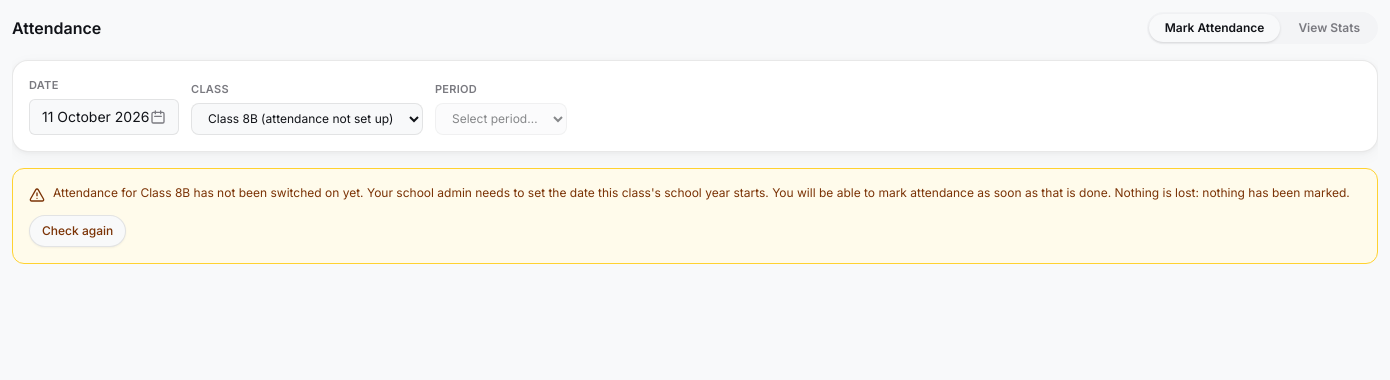
Scenario: TeacherAttendancePanel: a class with no school year start date › C6a: 'Check again' re-reads the class list once with fresh:true; a newly set date removes the card and shows 'Counted from'
This screenshot has width=1390, height=380.
Expected: the message shows "Attendance for Class 8B has not been switched on yet. Your school admin needs to set the date this class's school year starts. You will be able to mark attendan", [53,185,1350,200]
Click the button "Check again" at (78, 231), box [29,215,126,247]
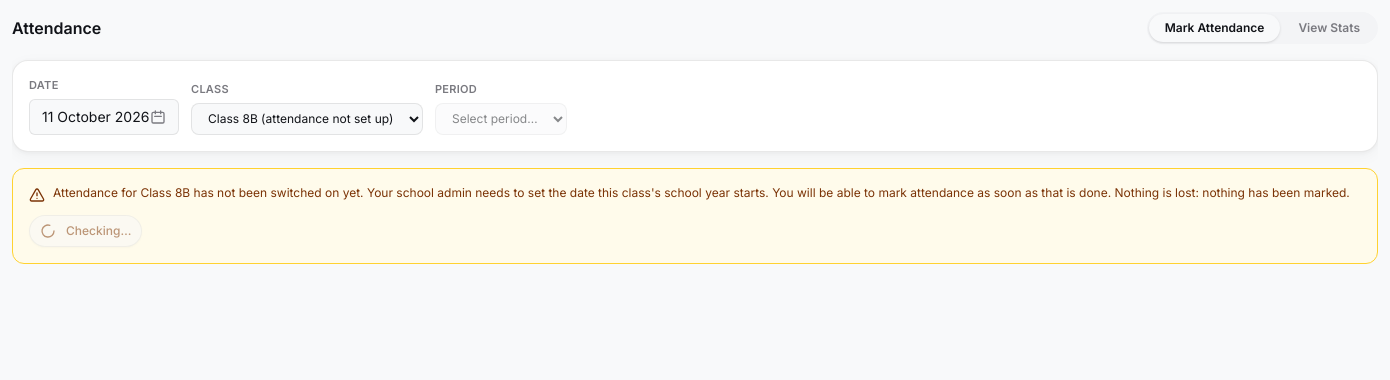
Result: the button "Checking…" is disabled
Click the button "Checking…" at (86, 231), box [29,215,142,247]
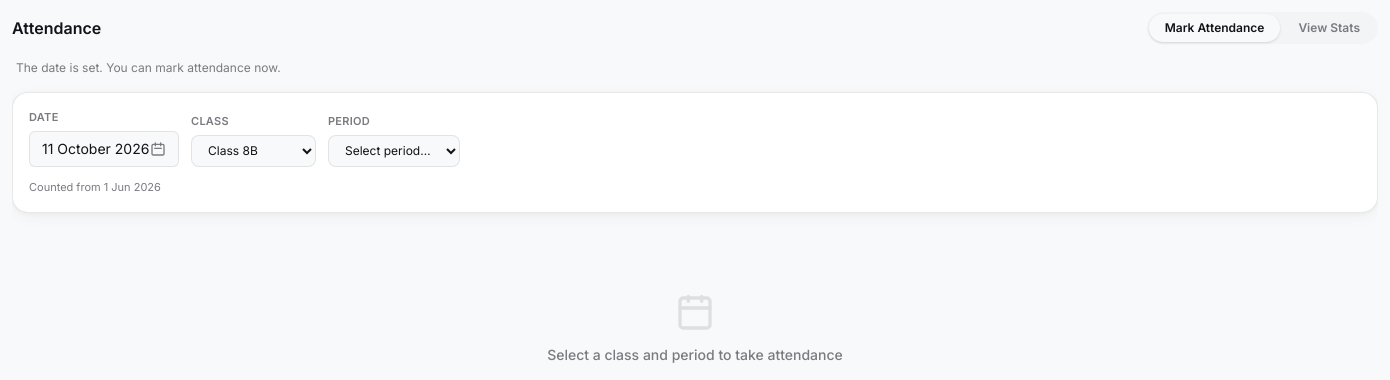
Result: the text "Counted from 1 Jun 2026" is shown at [29,180,161,194]
Result: the message is gone
Result: the text "The date is set. You can mark attendance now." is shown at [16,60,281,75]
